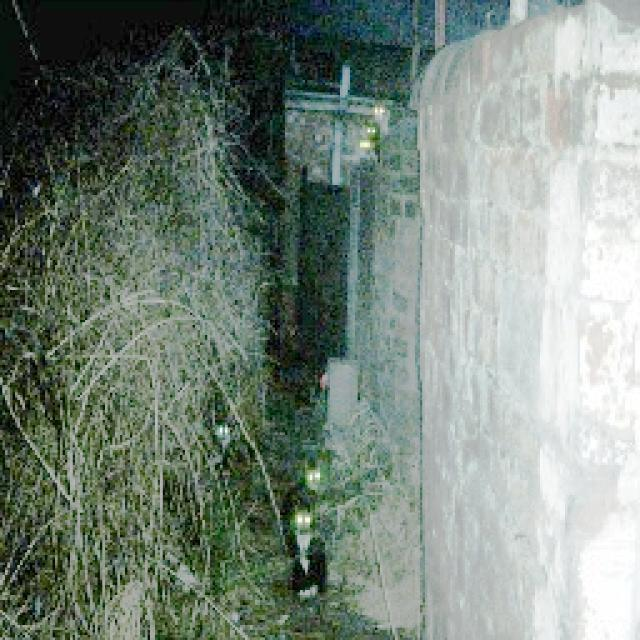cat: (287, 506, 332, 606), (299, 454, 327, 491), (365, 114, 385, 154), (214, 420, 236, 454)
